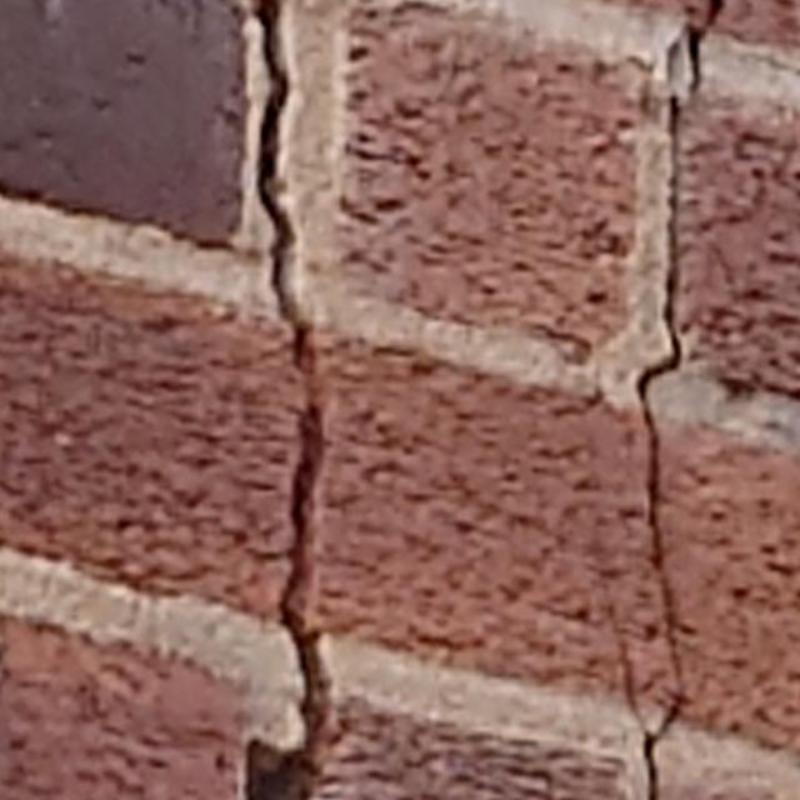pothole: (247, 0, 333, 799), (636, 94, 684, 799), (688, 0, 723, 93)
